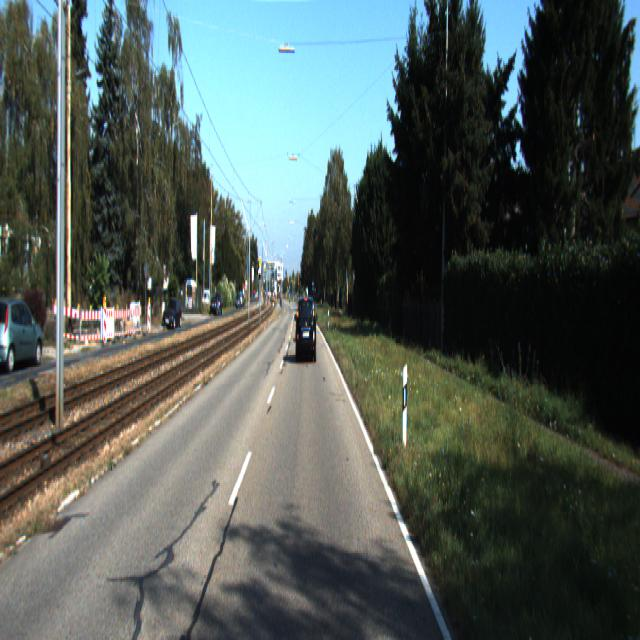Car: (0, 292, 48, 372), (296, 297, 317, 365), (163, 299, 183, 331)
